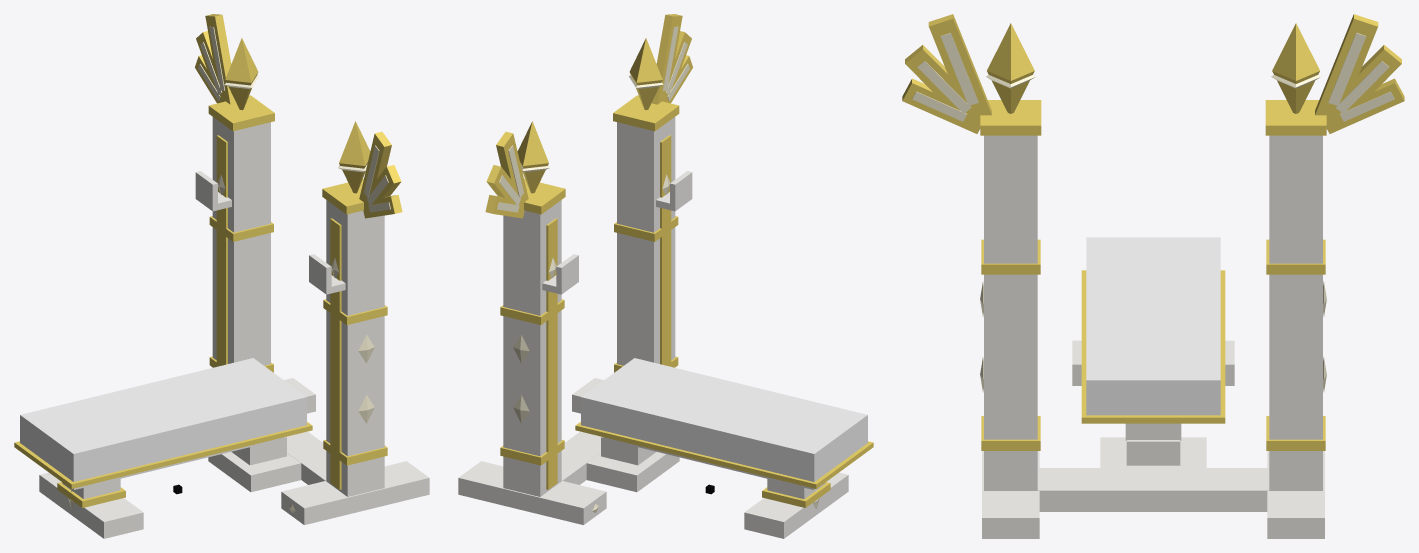
The model's file is Celestial_Bench.fbx.
3 views of the same model, side by side, from view 1: azimuth 30°, elevation 25°; view 2: azimuth 150°, elevation 25°; view 3: azimuth 270°, elevation 25° (orthographic). The views are drawn at different scales.
Visible parts, largest first — view 1: Celestial_Frame, Celestial_Pad, Celestial_Trim, Celestial_Wings, Celestial_Glow; view 2: Celestial_Frame, Celestial_Pad, Celestial_Trim, Celestial_Wings, Celestial_Glow; view 3: Celestial_Frame, Celestial_Pad, Celestial_Trim, Celestial_Wings, Celestial_Glow.
Part boxes in pixels (left/top/right/bottom): Celestial_Frame: left=39, top=117, right=429, bottom=538; Celestial_Pad: left=20, top=358, right=306, bottom=481; Celestial_Trim: left=14, top=38, right=387, bottom=507; Celestial_Wings: left=195, top=14, right=402, bottom=218; Celestial_Glow: left=68, top=26, right=390, bottom=512; Celestial_Frame: left=458, top=117, right=848, bottom=538; Celestial_Pad: left=581, top=358, right=867, bottom=481; Celestial_Trim: left=500, top=38, right=873, bottom=507; Celestial_Wings: left=485, top=14, right=692, bottom=218; Celestial_Glow: left=497, top=26, right=819, bottom=512; Celestial_Frame: left=982, top=135, right=1324, bottom=538; Celestial_Pad: left=1086, top=237, right=1220, bottom=415; Celestial_Trim: left=980, top=23, right=1326, bottom=450; Celestial_Wings: left=902, top=14, right=1404, bottom=133; Celestial_Glow: left=912, top=32, right=1394, bottom=392.
Size of the model in its own units: 5.58 by 6.51 by 6.07.
